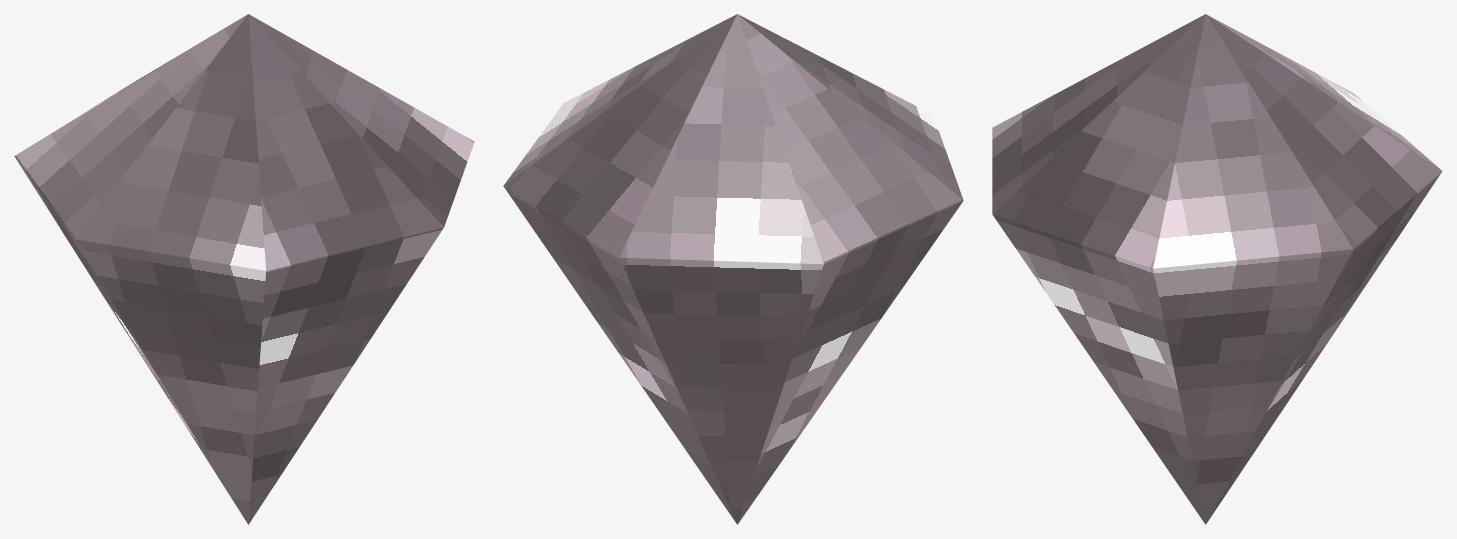
The model's file is Jewel_3.glb.
The picture shows the model from 3 angles, left to right: view 1: azimuth 30°, elevation 25°; view 2: azimuth 150°, elevation 25°; view 3: azimuth 270°, elevation 25°; orthographic projection.
Visible parts, largest first — view 1: Model; view 2: Model; view 3: Model.
Boxes of the visible parts, x1=… form: Model: x1=14, y1=14, x2=474, y2=524; Model: x1=503, y1=14, x2=963, y2=524; Model: x1=992, y1=14, x2=1442, y2=524.
Bounding box in the file's own units: 2.04 × 2.49 × 1.99.
1 material, 1 textured.
